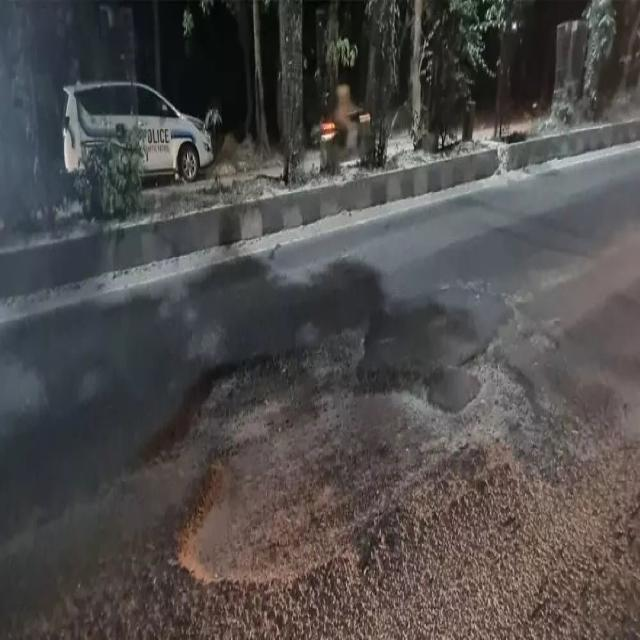Pothole: (178, 330, 399, 582), (152, 365, 230, 509)
